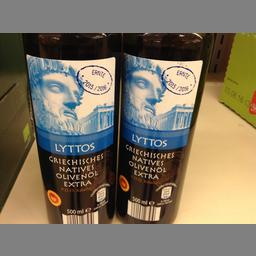oil: (20, 31, 118, 223), (116, 32, 212, 223)
